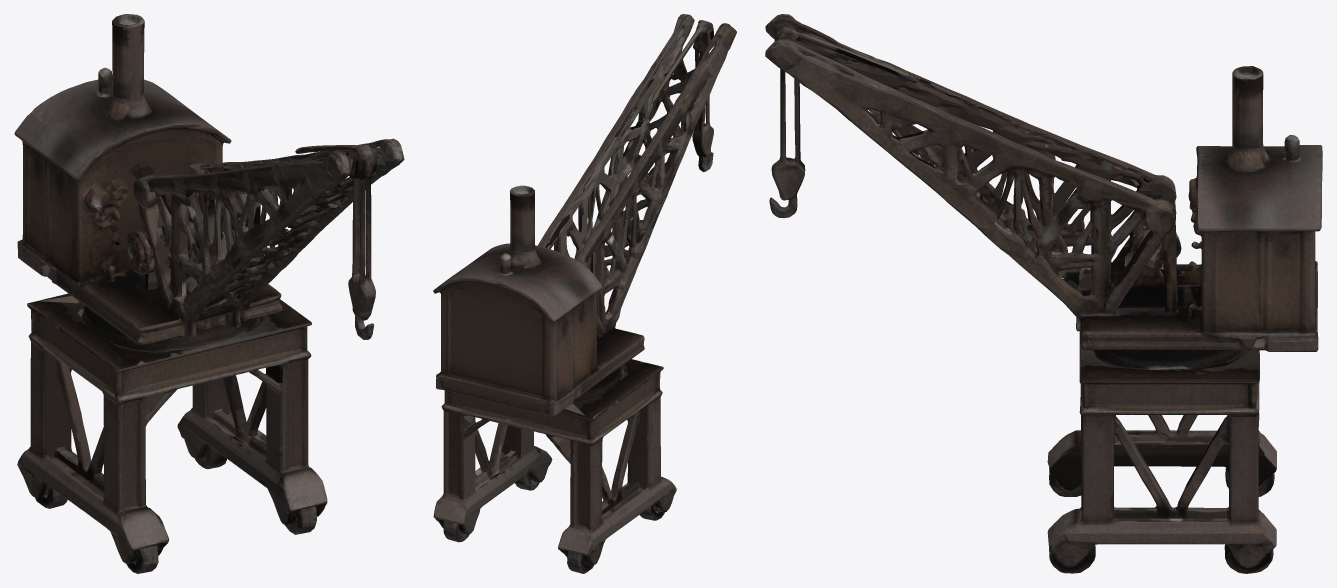
File: steam_crane.glb
3 renders of one model, left to right at view 1: azimuth 30°, elevation 25°; view 2: azimuth 150°, elevation 25°; view 3: azimuth 270°, elevation 25°, orthographic. The views are drawn at different scales.
Visible parts, largest first — view 1: HullBody; view 2: HullBody; view 3: HullBody.
Boxes of the visible parts, box(x1,y1,x2,y2) form: HullBody: box(14, 14, 404, 573); HullBody: box(433, 14, 736, 573); HullBody: box(765, 14, 1322, 573).
Bounding box in the file's own units: 7.62 × 18.5 × 18.48.
Materials: 1 (1 with a texture image).
